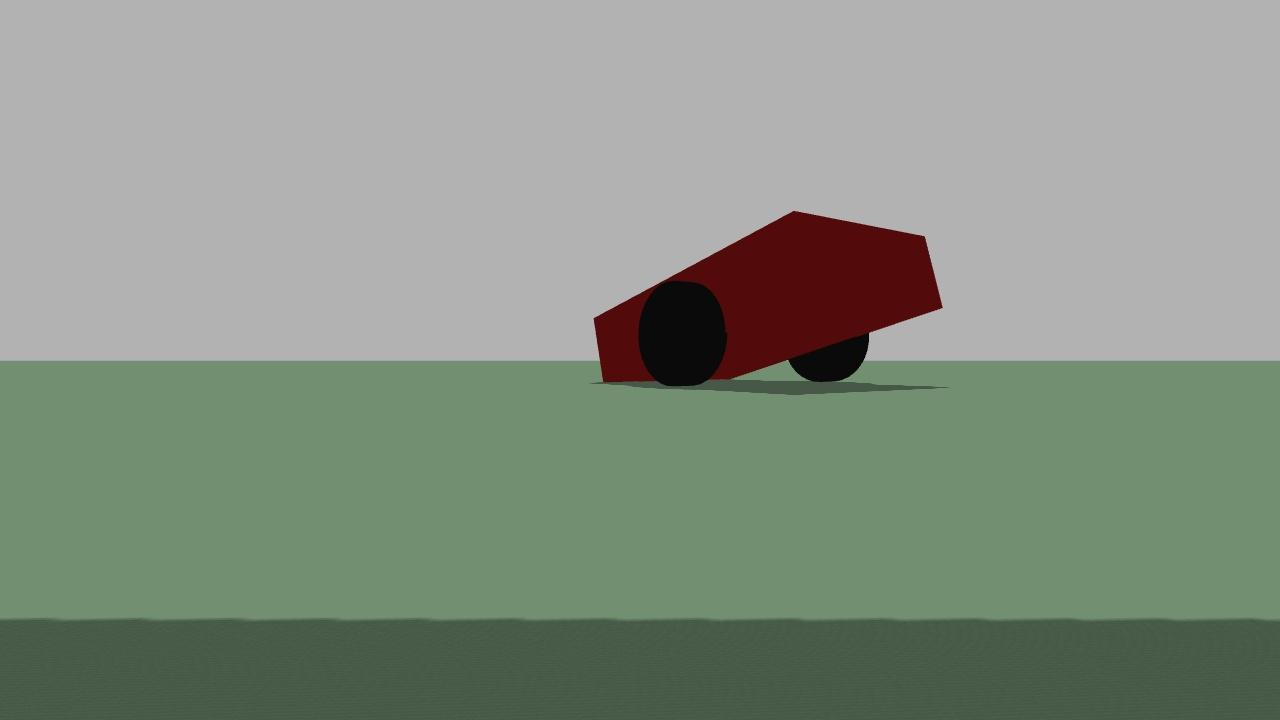ground_vehicle: (564, 201, 955, 390)
